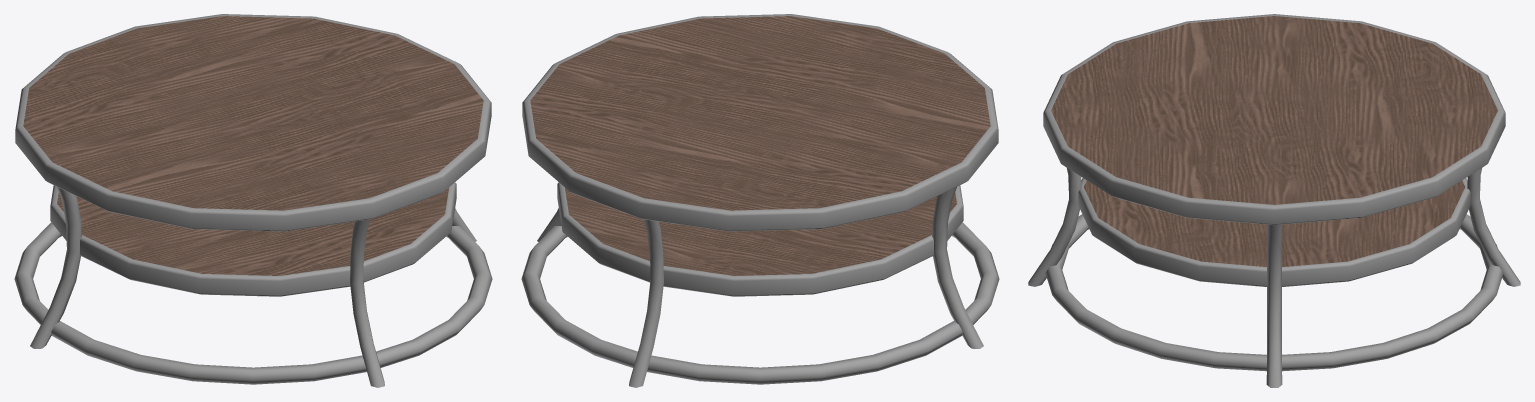
File: coffee_table_015.fbx
3 views of the same model, side by side, from view 1: azimuth 30°, elevation 25°; view 2: azimuth 150°, elevation 25°; view 3: azimuth 270°, elevation 25° (orthographic). The views are drawn at different scales.
Parts seen in each view (by area): view 1: coffee_table_015; view 2: coffee_table_015; view 3: coffee_table_015.
Boxes of the visible parts, box(x1,y1,x2,y2) form: coffee_table_015: box(14, 14, 492, 387); coffee_table_015: box(521, 14, 999, 387); coffee_table_015: box(1028, 14, 1520, 387).
Bounding box in the file's own units: 170 × 170 × 66.
